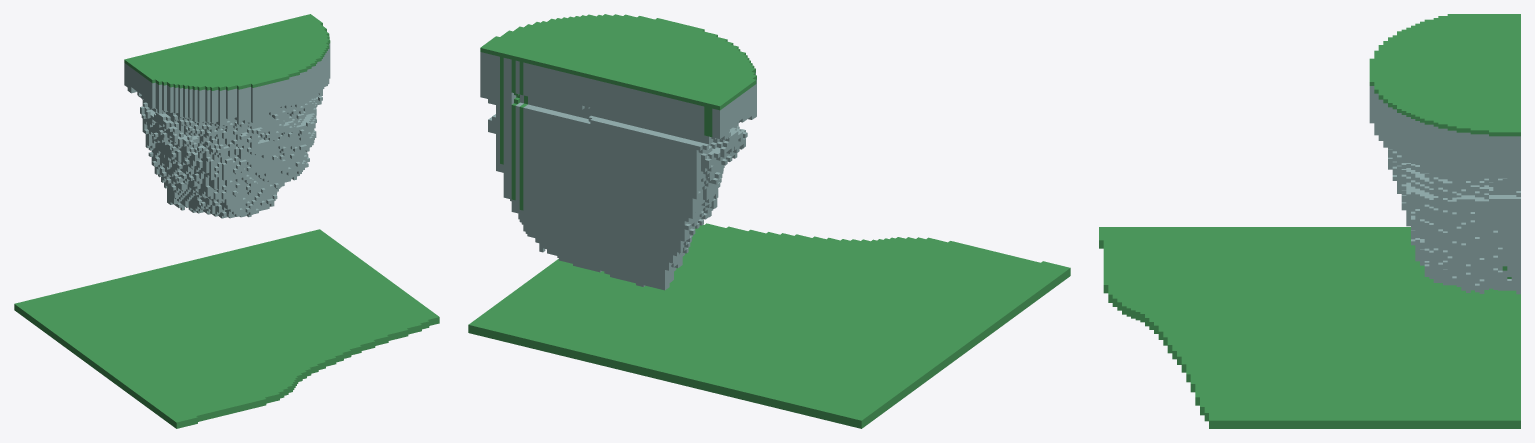
The model's file is TerrainPieces-9.obj.
The picture shows the model from 3 angles, left to right: view 1: azimuth 30°, elevation 25°; view 2: azimuth 150°, elevation 25°; view 3: azimuth 270°, elevation 25°; orthographic projection. The views are drawn at different scales.
Parts seen in each view (by area): view 1: TerrainPieces-9; view 2: TerrainPieces-9; view 3: TerrainPieces-9.
Part boxes in pixels (bbox=[...]): TerrainPieces-9: bbox=[14, 14, 439, 428]; TerrainPieces-9: bbox=[468, 14, 1070, 428]; TerrainPieces-9: bbox=[1099, 14, 1520, 428].
Size of the model in its own units: 100 by 70 by 92.
Materials: 1 (1 with a texture image).
